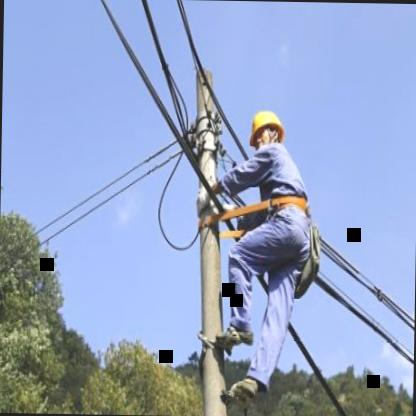helmet: (245, 104, 286, 154)
